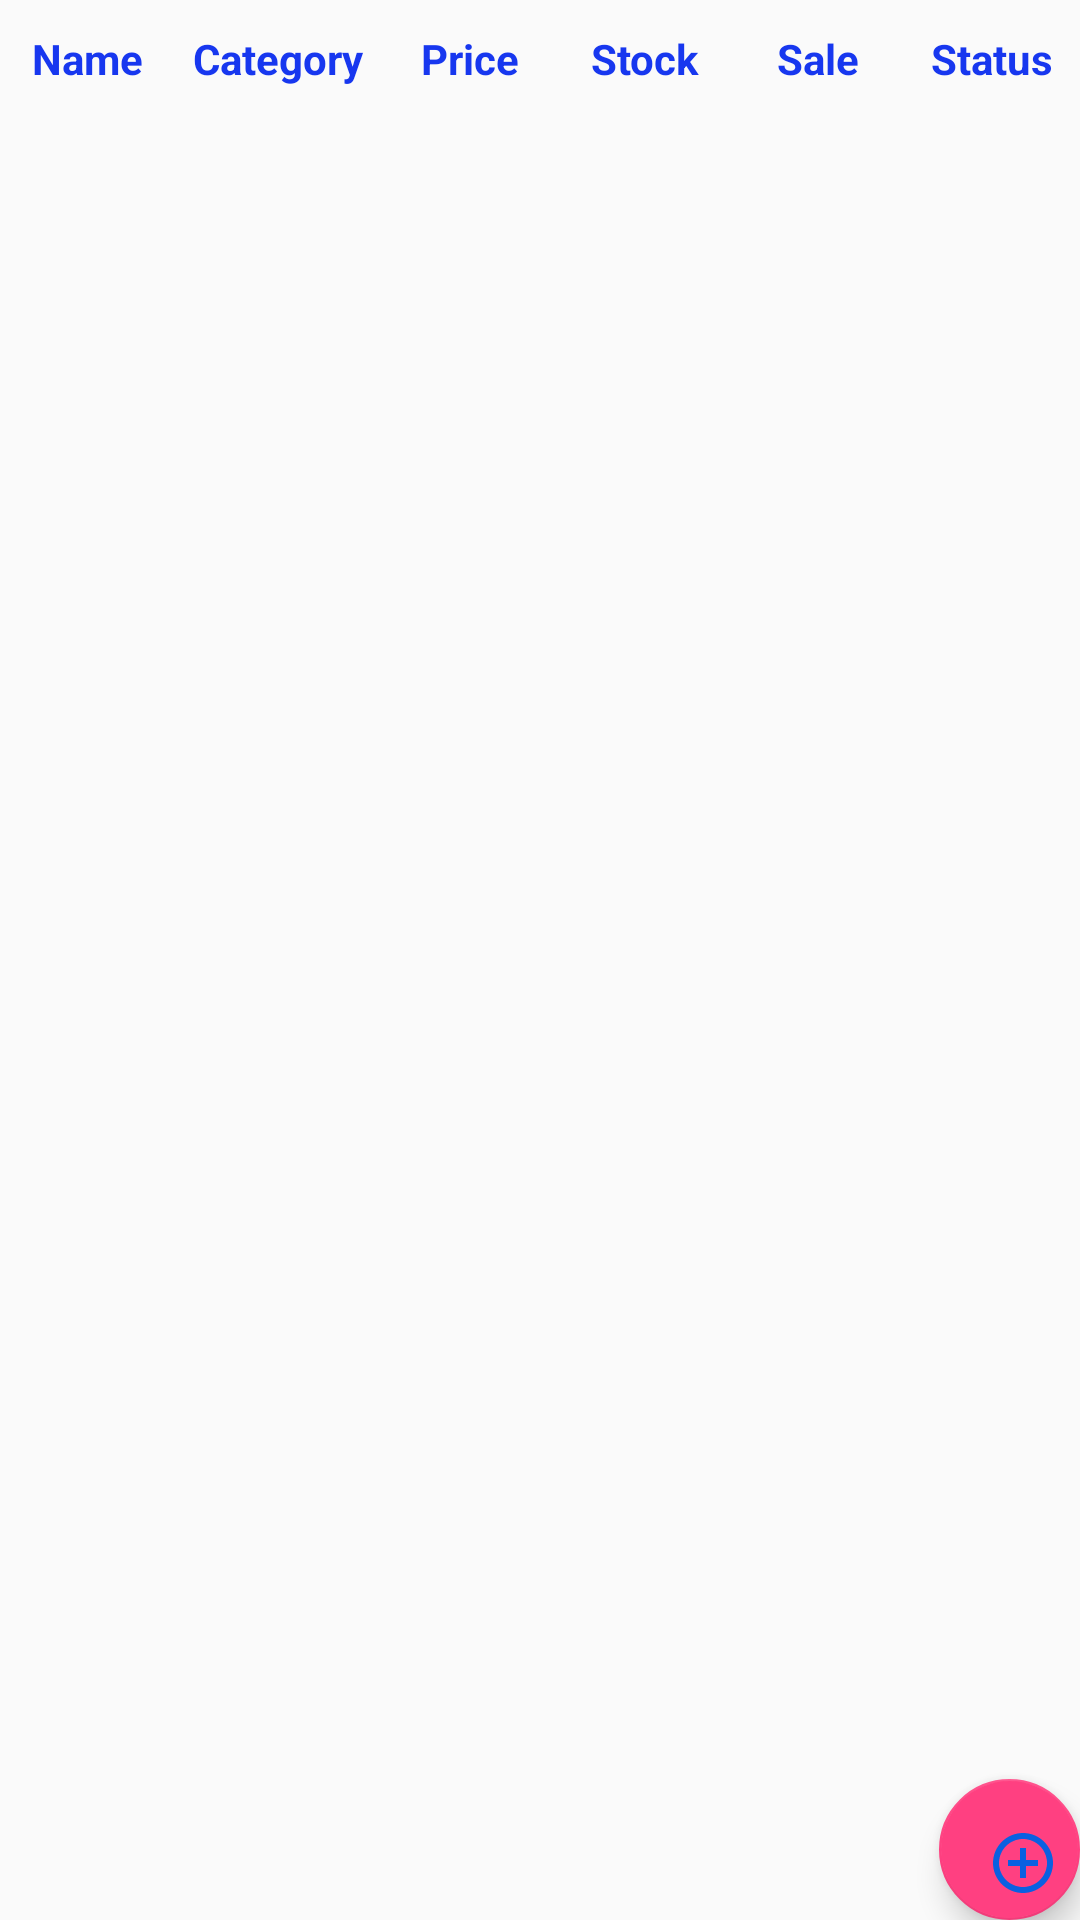

Locate icon controls on the screen. Image size 1080w x 1920h, boxes as (x1, y1, x2, y2).
plus: (939, 1779, 1080, 1920)
